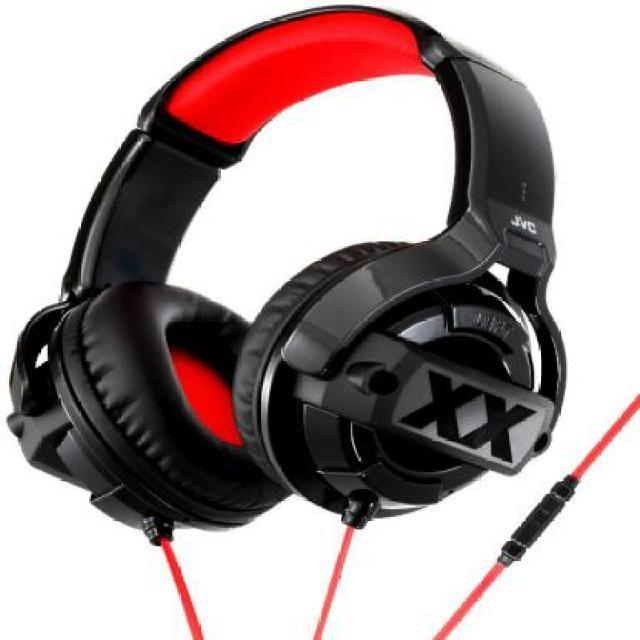earphone: (15, 9, 590, 528)
